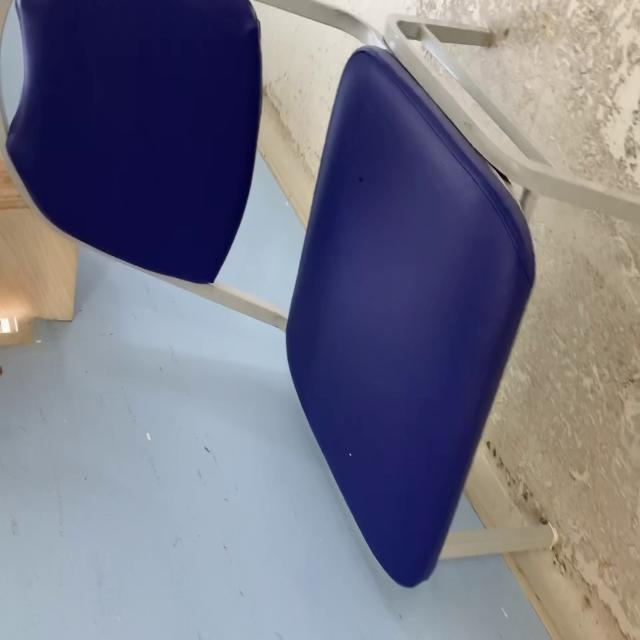chair: (3, 1, 640, 594)
